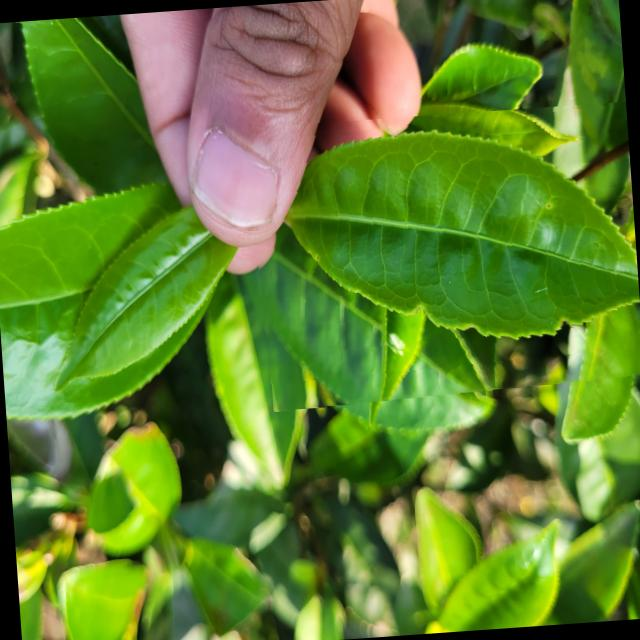Category B(2-4 days): (243, 100, 640, 411)
